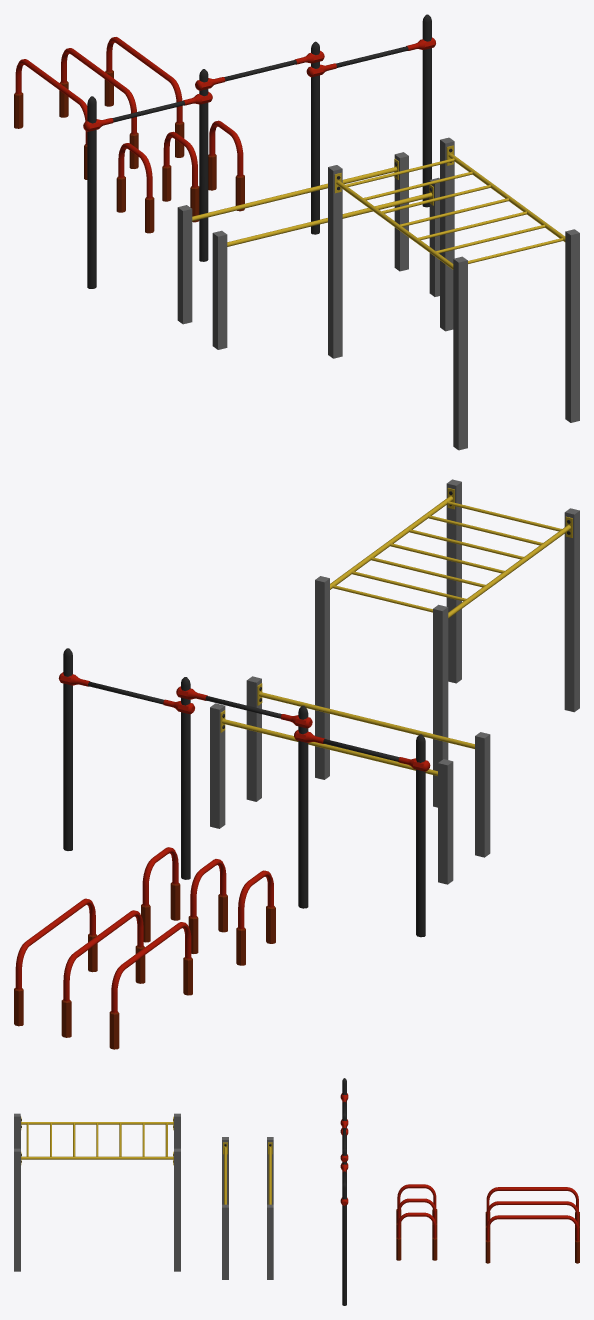
The model's file is body_training.glb.
The picture shows the model from 3 angles, top to bottom: view 1: azimuth 30°, elevation 25°; view 2: azimuth 150°, elevation 25°; view 3: azimuth 270°, elevation 25°; orthographic projection. The views are drawn at different scales.
Visible parts, largest first — view 1: calistenia_5, calistenia_3, calistenia_4, calistenia_1, calistenia_2; view 2: calistenia_5, calistenia_3, calistenia_4, calistenia_1, calistenia_2; view 3: calistenia_5, calistenia_4, calistenia_1, calistenia_3, calistenia_2.
Part boxes in pixels (x1=…): calistenia_5: x1=328, y1=137, x2=579, y2=450; calistenia_3: x1=83, y1=14, x2=435, y2=288; calistenia_4: x1=177, y1=152, x2=439, y2=349; calistenia_1: x1=14, y1=37, x2=184, y2=179; calistenia_2: x1=116, y1=120, x2=244, y2=233; calistenia_5: x1=315, y1=479, x2=579, y2=807; calistenia_3: x1=58, y1=648, x2=430, y2=937; calistenia_4: x1=210, y1=676, x2=490, y2=884; calistenia_1: x1=14, y1=898, x2=192, y2=1049; calistenia_2: x1=141, y1=847, x2=275, y2=965; calistenia_5: x1=14, y1=1113, x2=180, y2=1271; calistenia_4: x1=222, y1=1137, x2=273, y2=1279; calistenia_1: x1=485, y1=1187, x2=579, y2=1263; calistenia_3: x1=340, y1=1078, x2=348, y2=1305; calistenia_2: x1=396, y1=1184, x2=437, y2=1260.
Size of the model in its own units: 5 by 2.61 by 10.99.
1 material, 1 textured.
